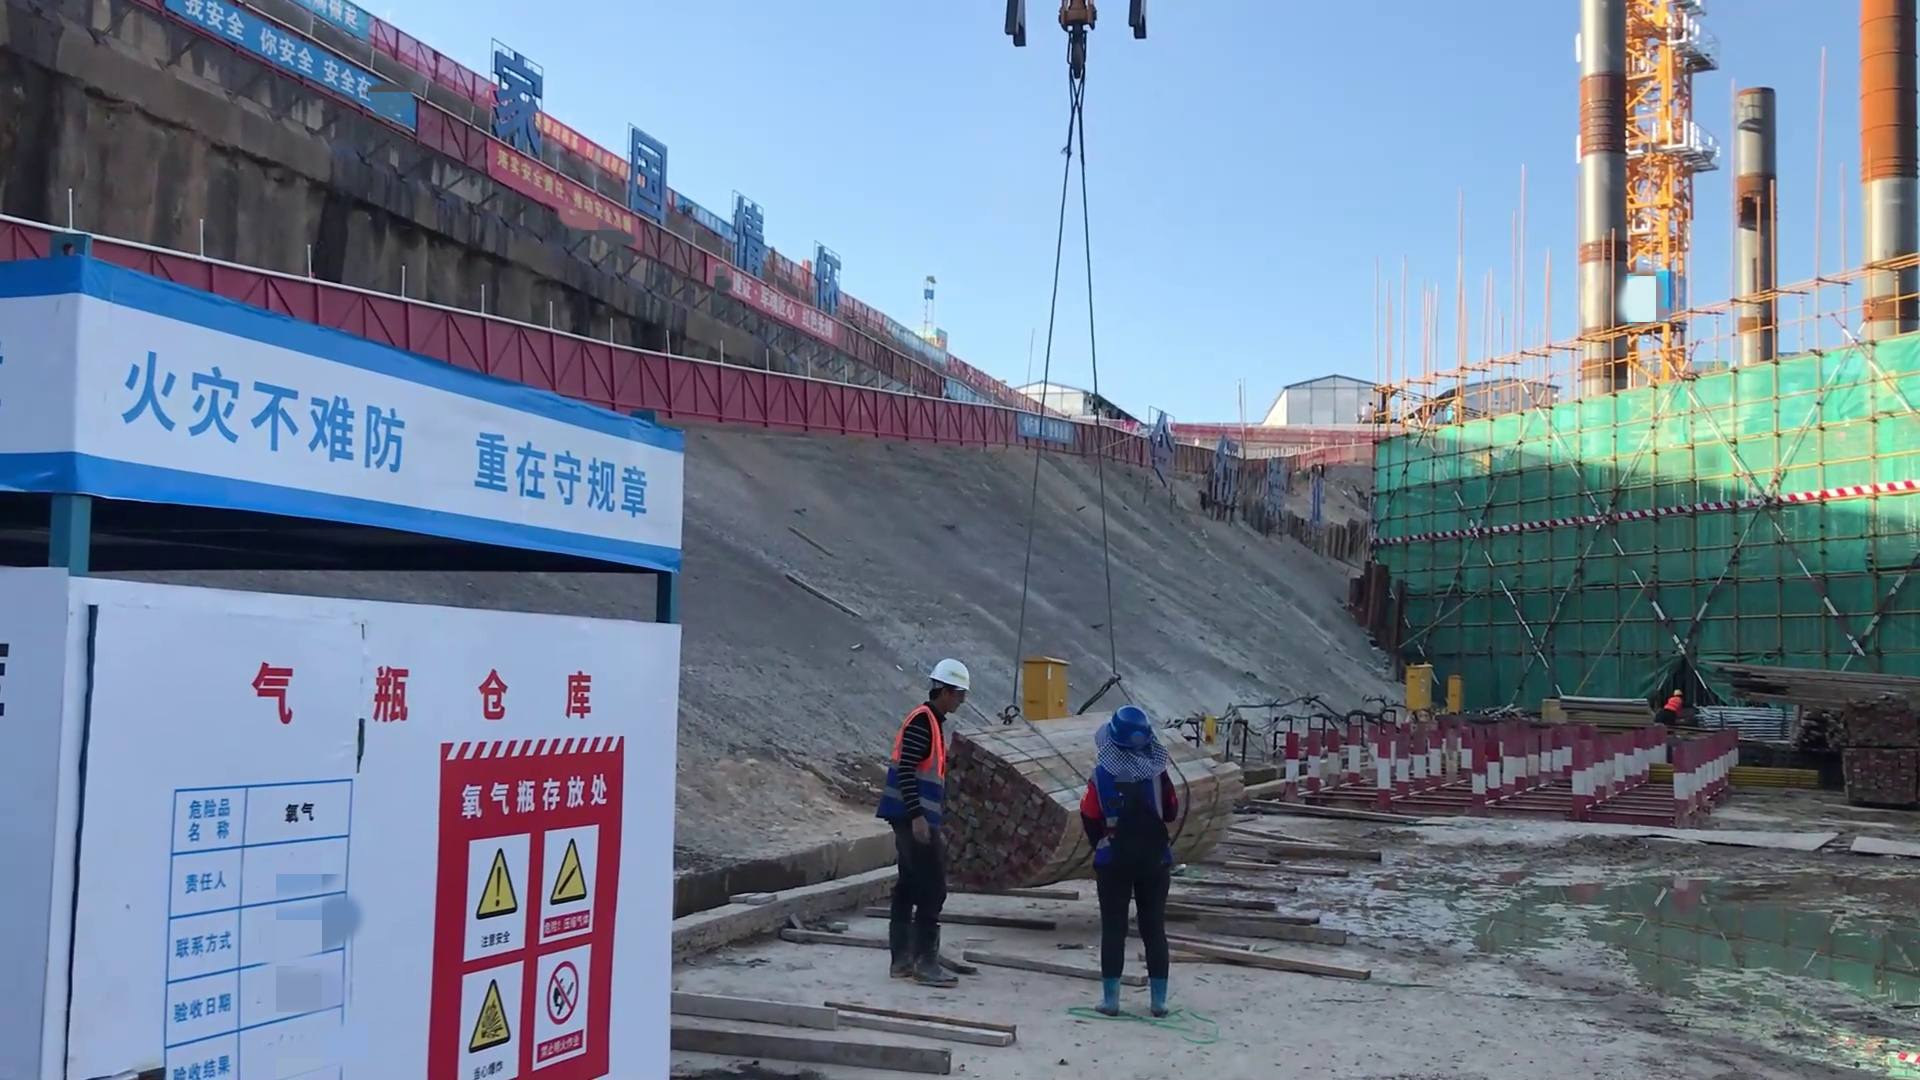ebox: (1019, 649, 1074, 721), (1402, 664, 1436, 712), (1445, 672, 1466, 718)
fence: (673, 357, 847, 448), (847, 385, 1004, 455)
helmet: (909, 654, 1003, 727), (1093, 708, 1161, 771), (1673, 687, 1682, 697)
person: (872, 653, 971, 994), (1086, 692, 1184, 1020), (1654, 682, 1686, 731)
slogan: (114, 335, 656, 561), (93, 1, 403, 170), (456, 818, 615, 1072), (455, 144, 666, 270)
vest: (879, 711, 949, 847), (1663, 696, 1684, 718)
wood: (1196, 782, 1407, 1004), (951, 726, 1095, 904), (1715, 655, 1918, 705)
